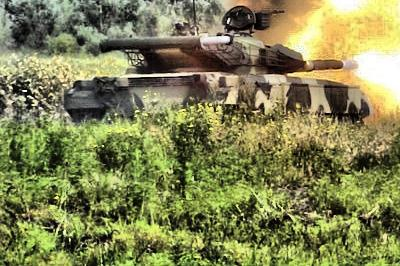tanks: (65, 23, 374, 120)
